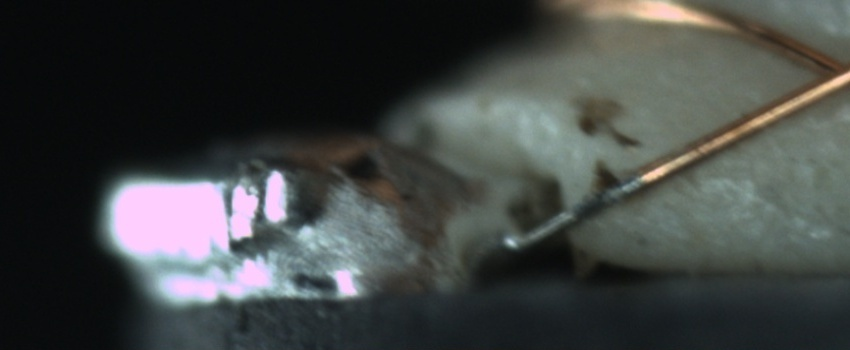CL: (784, 37, 848, 106)
TS: (502, 174, 646, 249)
